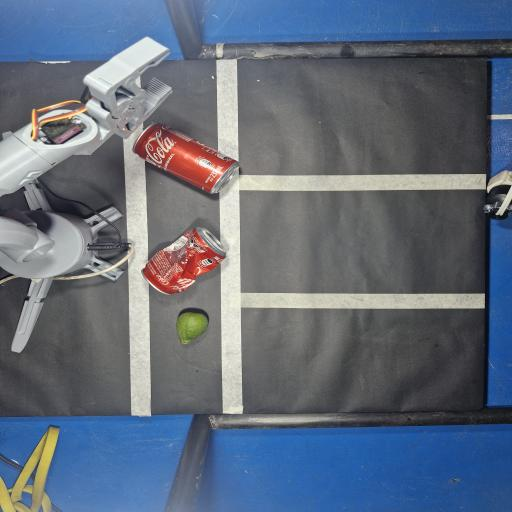higo: (176, 312, 208, 344)
lata: (133, 123, 239, 194)
lata_defectuoso: (142, 227, 225, 294)
